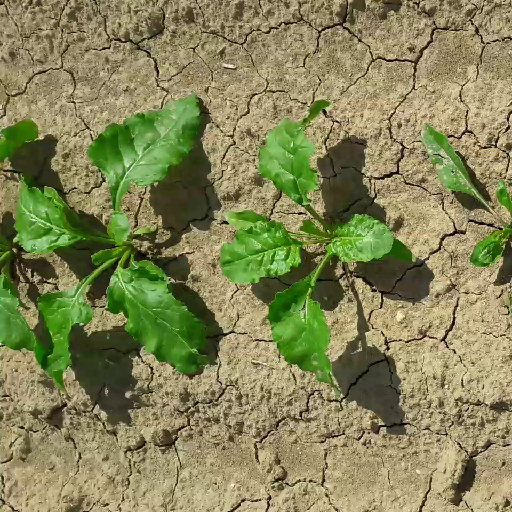sugarbeet: (13, 91, 209, 398), (219, 95, 395, 392), (420, 118, 512, 272)
